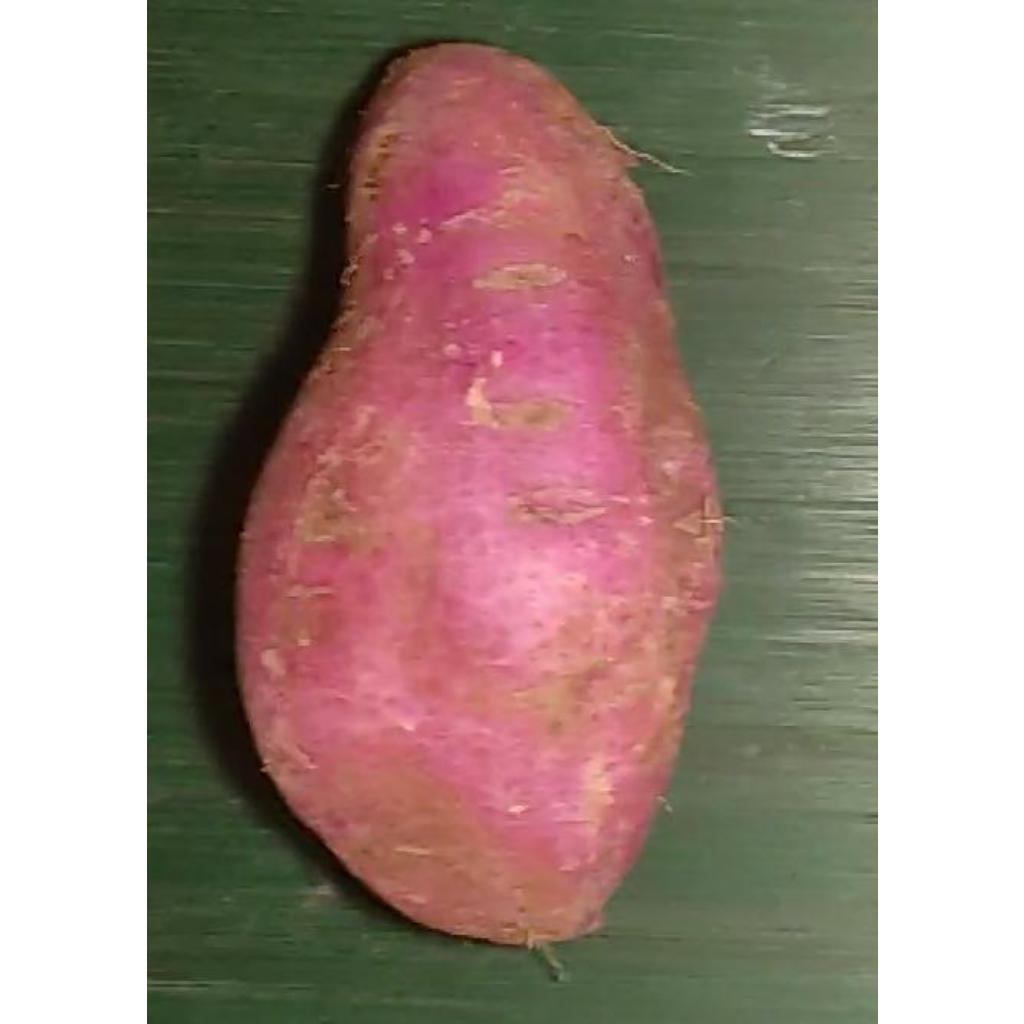Sweet Potato: (234, 42, 724, 955)
